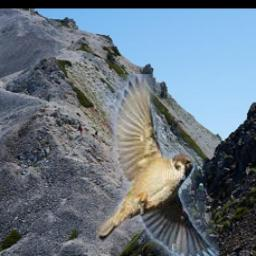Sparrow: (96, 75, 219, 256)
